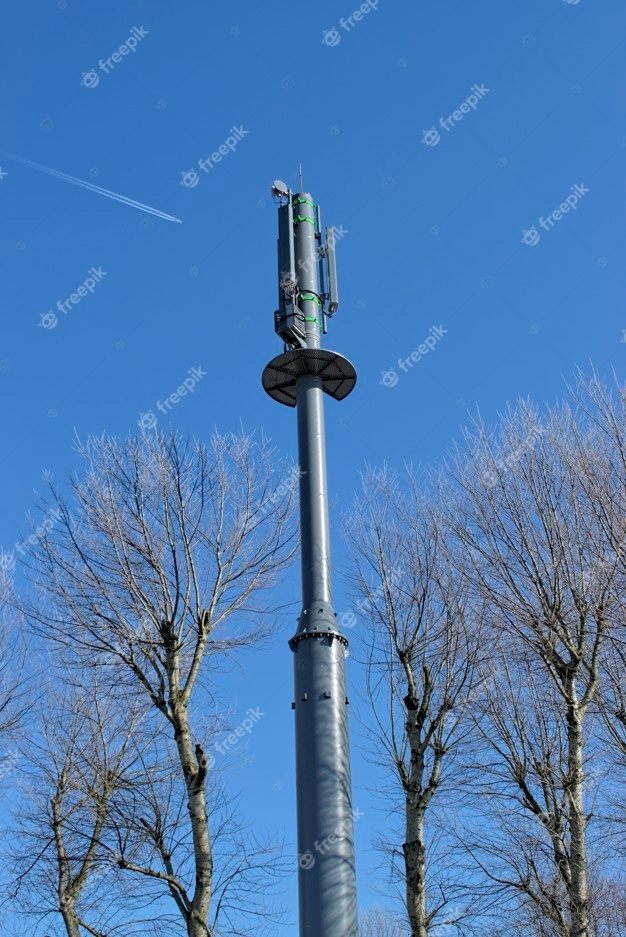sa: (279, 186, 333, 343)
